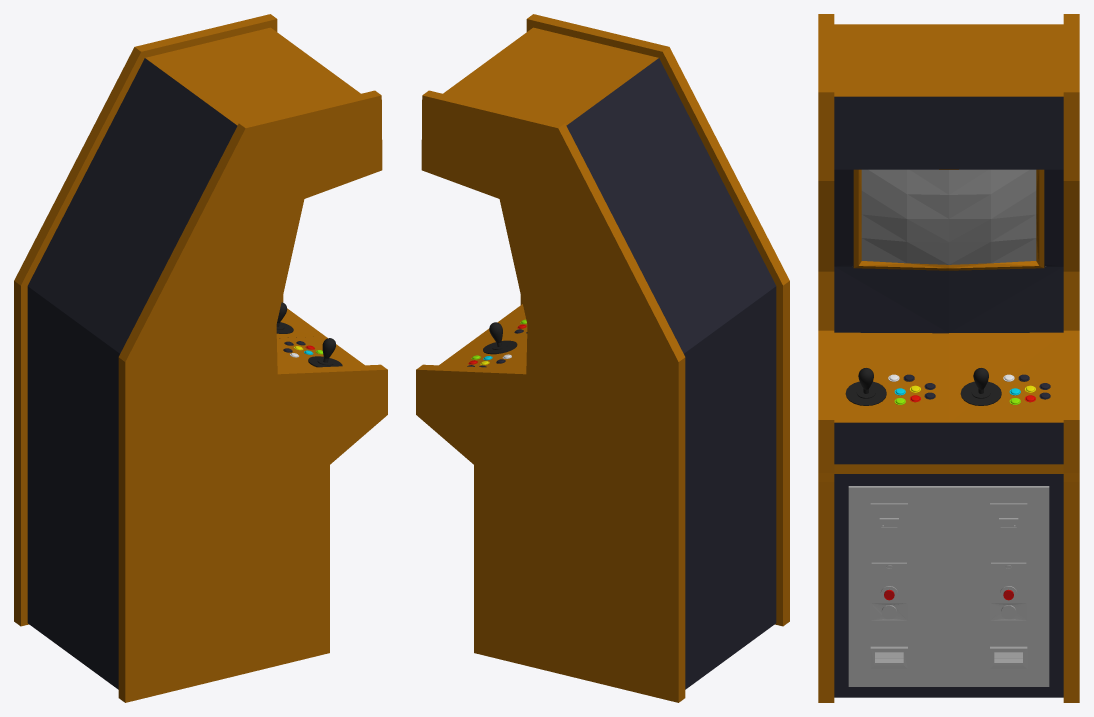
The model's file is uploads_files_2562183_Game+Machine+Cabine.fbx.
3 renders of one model, left to right at view 1: azimuth 30°, elevation 25°; view 2: azimuth 150°, elevation 25°; view 3: azimuth 270°, elevation 25°, orthographic. The views are drawn at different scales.
Parts seen in each view (by area): view 1: polySurface25; view 2: polySurface25, polySurface29; view 3: polySurface25, polySurface15, polySurface29.
Boxes of the visible parts, x1,y1,x2,y2 form: polySurface25: [14, 14, 387, 702]; polySurface25: [416, 14, 789, 702]; polySurface29: [483, 322, 517, 354]; polySurface25: [818, 14, 1079, 702]; polySurface15: [845, 368, 886, 405]; polySurface29: [960, 368, 1001, 405].
Size of the model in its own units: 20.76 by 41.19 by 15.23.
